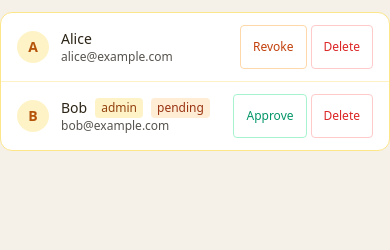
AdminUsersPage › shows inline error when delete action throws
Click the button "Delete" in the row of "alice@example.com": (342, 47) [310, 25, 373, 69]
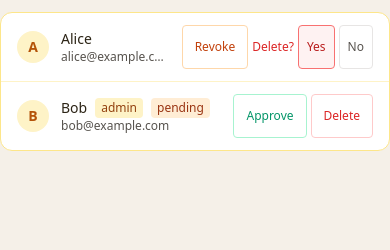
Click the button with aria-label "confirm delete": (316, 47) [298, 25, 335, 69]
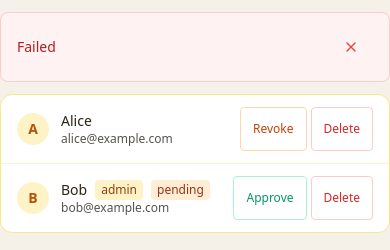
Expected: the message reads "Failed", [17, 37, 56, 56]
